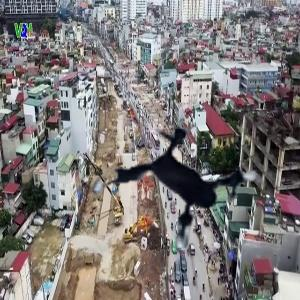drone: (82, 100, 276, 294)
